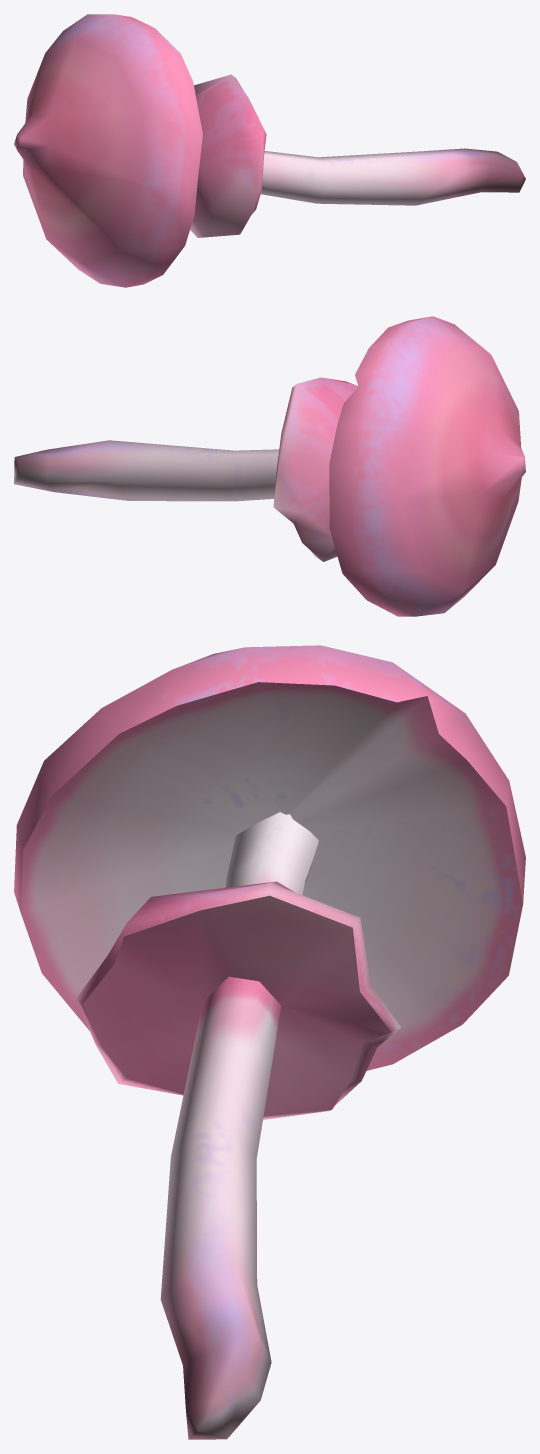
The model's file is SM_Potion_Props_Loot_Mushroom_02_B.fbx.
The picture shows the model from 3 angles, top to bottom: view 1: azimuth 30°, elevation 25°; view 2: azimuth 150°, elevation 25°; view 3: azimuth 270°, elevation 25°; orthographic projection. The views are drawn at different scales.
Parts seen in each view (by area): view 1: SM_Potion_Props_Loot_Mushroom_02_B_LOD0; view 2: SM_Potion_Props_Loot_Mushroom_02_B_LOD0; view 3: SM_Potion_Props_Loot_Mushroom_02_B_LOD0.
Boxes of the visible parts, x1,y1,x2,y2 form: SM_Potion_Props_Loot_Mushroom_02_B_LOD0: (14, 14, 525, 287); SM_Potion_Props_Loot_Mushroom_02_B_LOD0: (14, 316, 525, 616); SM_Potion_Props_Loot_Mushroom_02_B_LOD0: (14, 645, 525, 1439).
Size of what is drawn, in the model's own units: 11.67 by 5.64 by 5.67.
